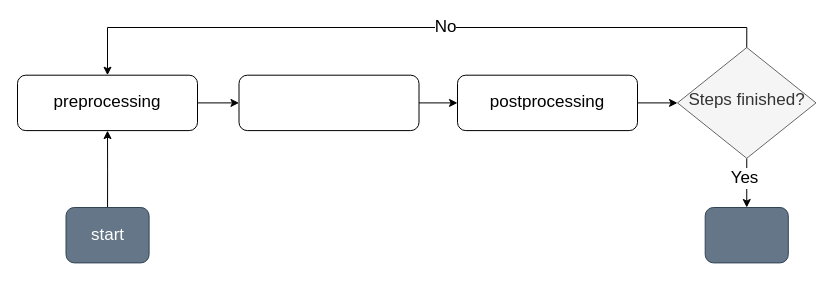
The diagram is 834 pixels wide and 281 high, and some of its shapes have lost their labels. The box of each missing label's shape, as (x1, y1, x2, y2) in pixels:
end: (704, 206, 788, 263)
simulation: (238, 74, 419, 131)
